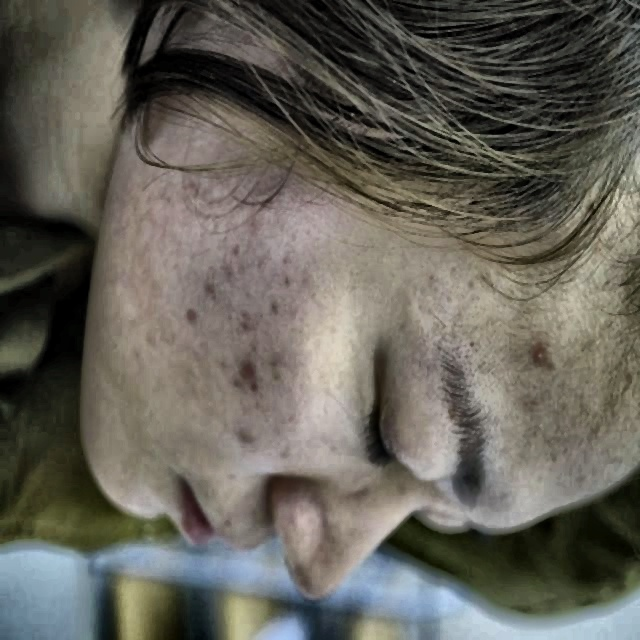comedone: (524, 335, 555, 385), (218, 369, 253, 410), (180, 295, 200, 333)
